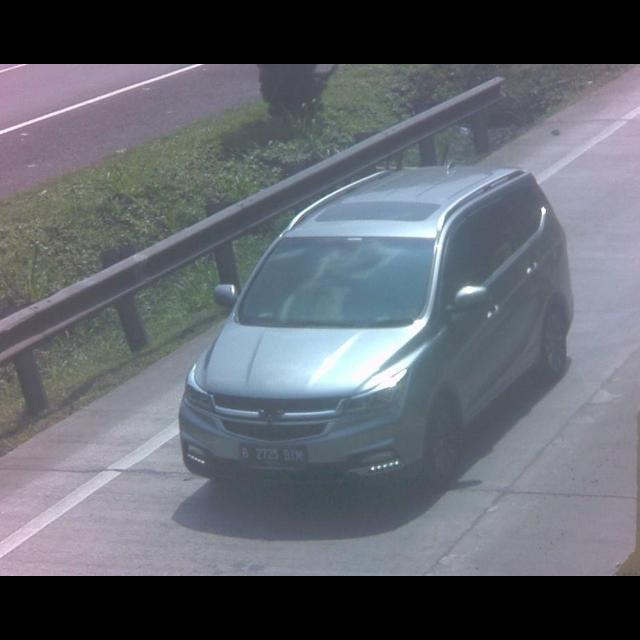plate: (238, 442, 304, 470)
